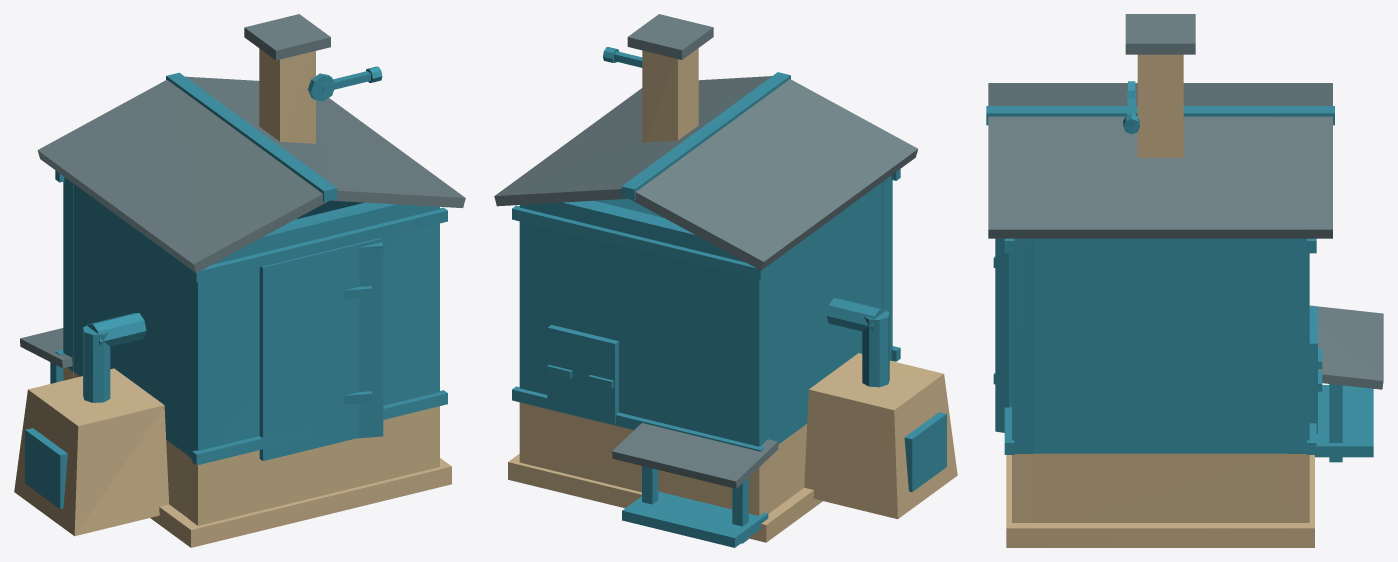
File: smokehouse.source.glb
The picture shows the model from 3 angles, left to right: view 1: azimuth 30°, elevation 25°; view 2: azimuth 150°, elevation 25°; view 3: azimuth 270°, elevation 25°; orthographic projection. The views are drawn at different scales.
Parts seen in each view (by area): view 1: smokehouse-left-roof-panel-mesh, smokehouse-front-sealed-timber-wall-mesh, smokehouse-loading-door-dark-opening-mesh, smokehouse-left-sealed-timber-wall-mesh, smokehouse-masonry-firebox-body-mesh, smokehouse-front-stone-base-wall-mesh, smokehouse-right-roof-panel-mesh, smokehouse-foundation-slab-mesh, smokehouse-narrow-chimney-stack-mesh, smokehouse-heavy-timber-loading-door-mesh, smokehouse-front-sealing-band-2.72-mesh, smokehouse-roof-ridge-cap-mesh (+8 smaller); view 2: smokehouse-rear-sealed-timber-wall-mesh, smokehouse-left-roof-panel-mesh, smokehouse-left-sealed-timber-wall-mesh, smokehouse-masonry-firebox-body-mesh, smokehouse-right-roof-panel-mesh, smokehouse-rear-stone-base-wall-mesh, smokehouse-fuel-ledge-cover-mesh, smokehouse-rear-service-hatch-mesh, smokehouse-narrow-chimney-stack-mesh, smokehouse-empty-fuel-ledge-deck-mesh, smokehouse-foundation-slab-mesh, smokehouse-rear-sealing-band-2.72-mesh (+10 smaller); view 3: smokehouse-right-sealed-timber-wall-mesh, smokehouse-right-roof-panel-mesh, smokehouse-right-stone-base-wall-mesh, smokehouse-foundation-slab-mesh, smokehouse-left-roof-panel-mesh, smokehouse-fuel-ledge-cover-mesh, smokehouse-rear-sealed-timber-wall-mesh, smokehouse-narrow-chimney-stack-mesh, smokehouse-front-sealed-timber-wall-mesh, smokehouse-empty-fuel-ledge-deck-mesh, smokehouse-roof-ridge-cap-mesh, smokehouse-chimney-cap-mesh (+5 smaller).
Boxes of the visible parts, bbox=[...] form: smokehouse-left-roof-panel-mesh: bbox=[37, 80, 327, 273]; smokehouse-front-sealed-timber-wall-mesh: bbox=[188, 202, 439, 458]; smokehouse-loading-door-dark-opening-mesh: bbox=[259, 238, 381, 460]; smokehouse-left-sealed-timber-wall-mesh: bbox=[73, 184, 188, 455]; smokehouse-masonry-firebox-body-mesh: bbox=[14, 368, 168, 536]; smokehouse-front-stone-base-wall-mesh: bbox=[188, 406, 439, 525]; smokehouse-right-roof-panel-mesh: bbox=[185, 76, 465, 207]; smokehouse-foundation-slab-mesh: bbox=[150, 458, 451, 547]; smokehouse-narrow-chimney-stack-mesh: bbox=[259, 48, 315, 143]; smokehouse-heavy-timber-loading-door-mesh: bbox=[358, 242, 383, 438]; smokehouse-front-sealing-band-2.72-mesh: bbox=[192, 207, 447, 282]; smokehouse-roof-ridge-cap-mesh: bbox=[166, 72, 337, 201]; smokehouse-rear-sealed-timber-wall-mesh: bbox=[519, 200, 768, 446]; smokehouse-left-roof-panel-mesh: bbox=[630, 79, 917, 270]; smokehouse-left-sealed-timber-wall-mesh: bbox=[769, 182, 882, 444]; smokehouse-masonry-firebox-body-mesh: bbox=[804, 353, 957, 519]; smokehouse-right-roof-panel-mesh: bbox=[494, 76, 771, 206]; smokehouse-rear-stone-base-wall-mesh: bbox=[519, 402, 768, 515]; smokehouse-fuel-ledge-cover-mesh: bbox=[612, 423, 778, 488]; smokehouse-rear-service-hatch-mesh: bbox=[547, 325, 618, 424]; smokehouse-narrow-chimney-stack-mesh: bbox=[642, 48, 698, 142]; smokehouse-empty-fuel-ledge-deck-mesh: bbox=[622, 491, 768, 547]; smokehouse-foundation-slab-mesh: bbox=[508, 454, 822, 542]; smokehouse-rear-sealing-band-2.72-mesh: bbox=[512, 205, 764, 279]; smokehouse-right-sealed-timber-wall-mesh: bbox=[1033, 238, 1287, 453]; smokehouse-right-roof-panel-mesh: bbox=[988, 116, 1332, 238]; smokehouse-right-stone-base-wall-mesh: bbox=[1033, 453, 1287, 522]; smokehouse-foundation-slab-mesh: bbox=[1006, 455, 1314, 547]; smokehouse-left-roof-panel-mesh: bbox=[988, 83, 1332, 105]; smokehouse-fuel-ledge-cover-mesh: bbox=[1309, 305, 1383, 389]; smokehouse-rear-sealed-timber-wall-mesh: bbox=[1287, 238, 1309, 453]; smokehouse-narrow-chimney-stack-mesh: bbox=[1137, 54, 1183, 157]; smokehouse-front-sealed-timber-wall-mesh: bbox=[1012, 238, 1033, 453]; smokehouse-empty-fuel-ledge-deck-mesh: bbox=[1315, 385, 1373, 457]; smokehouse-roof-ridge-cap-mesh: bbox=[986, 106, 1334, 125]; smokehouse-chimney-cap-mesh: bbox=[1125, 14, 1195, 54].
Bounding box in the file's own units: 3.72 × 4.27 × 3.28.
